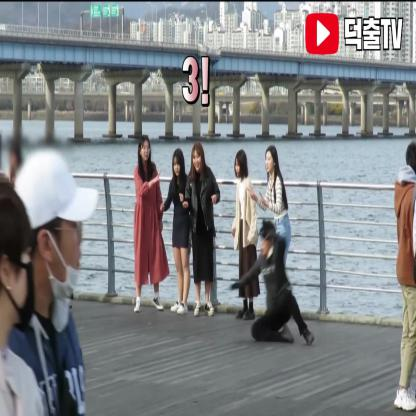Fall_Down: (226, 219, 316, 346)
